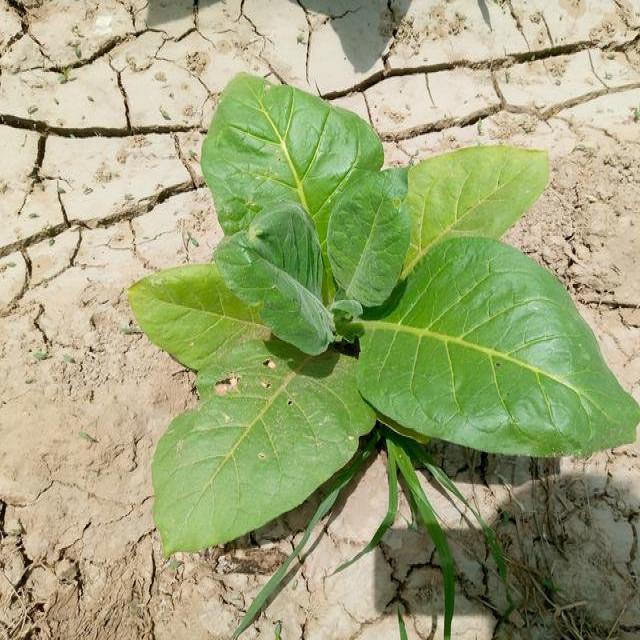crop: (146, 69, 640, 544)
